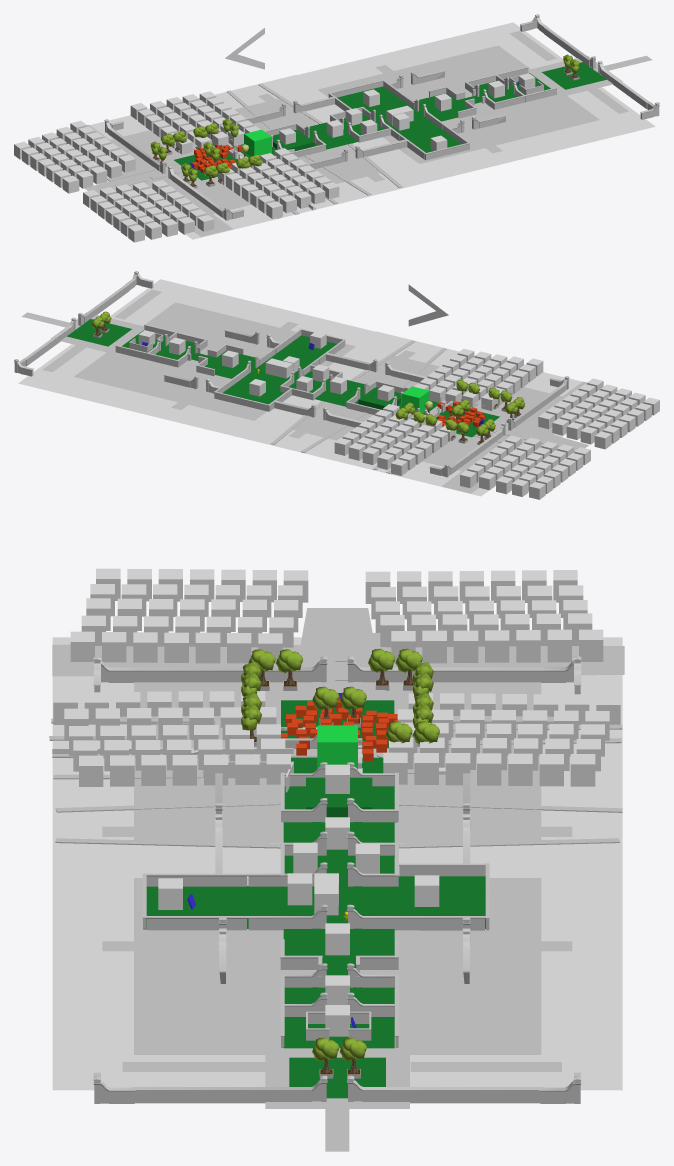
The model's file is Level Keraton.fbx.
3 views of the same model, one above another, from view 1: azimuth 30°, elevation 25°; view 2: azimuth 150°, elevation 25°; view 3: azimuth 270°, elevation 25° (orthographic). The views are drawn at different scales.
Parts seen in each view (by area): view 1: Ground.L Outher, Ground.L, ori.Ground Outer, Denah Jalan.001, 7-Halaman Keraton, ori.Ground, Benteng baluwarti, 62 Ringin lor, Cube.050, Bangunan.010, Bangunan.015, Bangunan.004 (+33 smaller); view 2: Ground.L Outher, Ground.L, ori.Ground Outer, Denah Jalan.001, 7-Halaman Keraton, ori.Ground, Benteng baluwarti, 62 Ringin lor, Bangunan.015, Bangunan.010, Bangunan.009, Cube.050 (+31 smaller); view 3: Ground.L Outher, Ground.L, ori.Ground Outer, Denah Jalan.001, 7-Halaman Keraton, ori.Ground, Benteng baluwarti, Cube.050, 62 Ringin lor, Bangunan.014, Bangunan.005, Bangunan (+38 smaller).
Part boxes in pixels (x1,y1,x2,y2): Ground.L Outher: (107,22,655,239); Ground.L: (318,45,599,163); ori.Ground Outer: (55,74,438,238); Denah Jalan.001: (84,31,651,236); 7-Halaman Keraton: (232,73,550,157); ori.Ground: (110,98,380,214); Benteng baluwarti: (114,26,649,212); 62 Ringin lor: (150,118,262,188); Cube.050: (107,83,402,218); Bangunan.010: (14,141,79,193); Bangunan.015: (83,190,144,242); Bangunan.004: (218,168,282,219); Ground.L Outher: (18,279,566,496); Ground.L: (74,302,355,420); ori.Ground Outer: (234,331,617,495); Denah Jalan.001: (21,289,588,493); 7-Halaman Keraton: (122,330,438,414); ori.Ground: (292,355,565,471); Benteng baluwarti: (24,283,559,469); 62 Ringin lor: (395,379,525,444); Bangunan.015: (594,397,659,449); Bangunan.010: (529,447,590,499); Bangunan.009: (391,425,456,475); Cube.050: (270,340,546,473); Ground.L Outher: (52,878,622,1090); Ground.L: (134,878,541,1054); ori.Ground Outer: (52,637,622,877); Denah Jalan.001: (52,608,624,1151); 7-Halaman Keraton: (145,757,485,1048); ori.Ground: (134,671,541,843); Benteng baluwarti: (131,656,544,1103); Cube.050: (49,632,622,848); 62 Ringin lor: (241,648,439,746); Bangunan.014: (391,629,603,663); Bangunan.005: (383,752,595,786); Bangunan: (79,754,290,786).
Size of the model in its own units: 16314 by 3397 by 7061.
